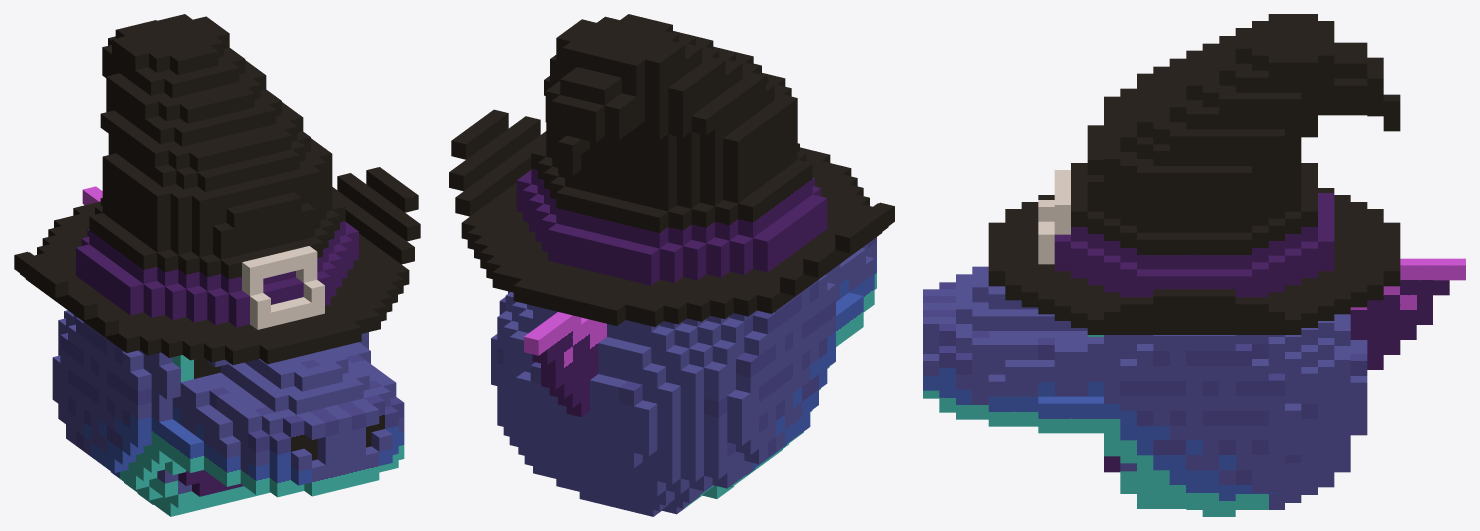
The model's file is witch hat.gltf.
3 renders of one model, left to right at view 1: azimuth 30°, elevation 25°; view 2: azimuth 150°, elevation 25°; view 3: azimuth 270°, elevation 25°, orthographic. The views are drawn at different scales.
Visible parts, largest first — view 1: 11_Head_WitchHat-Mesh; view 2: 11_Head_WitchHat-Mesh; view 3: 11_Head_WitchHat-Mesh.
Boxes of the visible parts, <box> form: 11_Head_WitchHat-Mesh: <box>14,14,420,516</box>; 11_Head_WitchHat-Mesh: <box>449,14,894,516</box>; 11_Head_WitchHat-Mesh: <box>923,14,1465,516</box>.
Size of the model in its own units: 27 by 30 by 33.
Materials: 1 (1 with a texture image).
